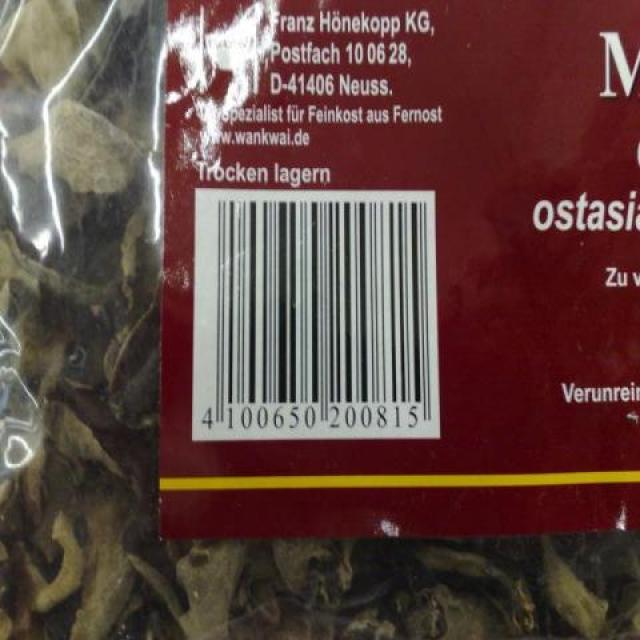Barcode: (193, 190, 442, 438)
